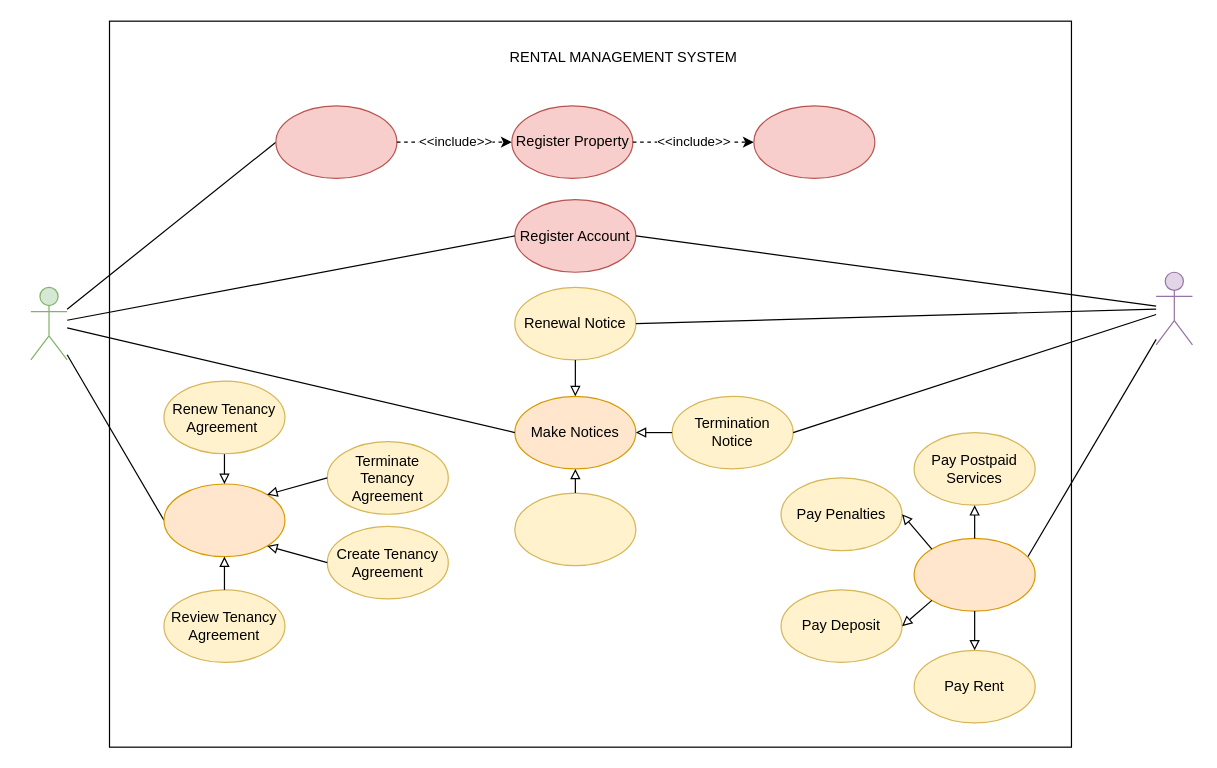
Some shapes in this 1217 by 768 pixel diagram are drawn without their labels. The shapes that lost their labels are listed below. From the top down, each one's centre as x and y in pixels, then its label:
the point at 336,141: Register Estate
the point at 814,141: Register Unit
the point at 48,323: Landlord
the point at 1173,308: Tenant
the point at 224,520: Manage Tenancy Agreement
the point at 575,529: Breach Notice
the point at 974,574: Make Payments
